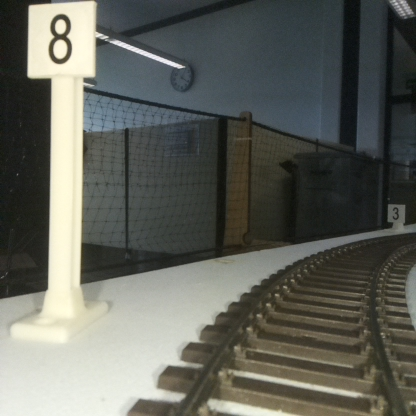white-info-8: (27, 2, 94, 336)
white-stop-3: (387, 204, 405, 232)
